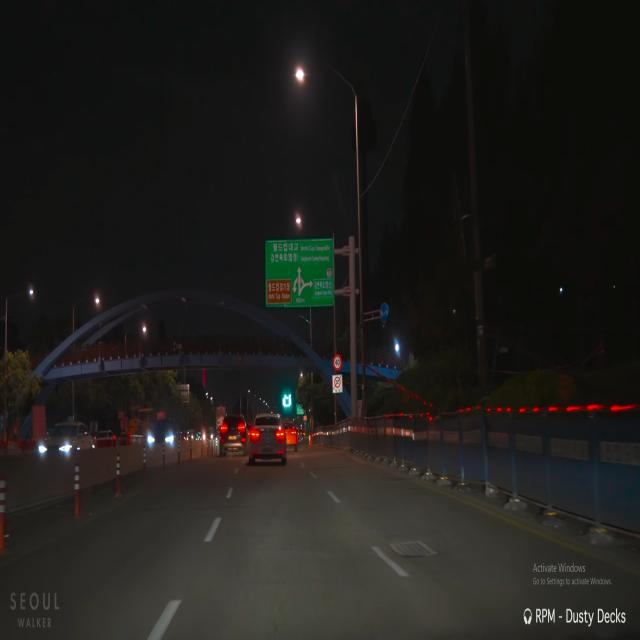headlights: (36, 434, 74, 459), (142, 430, 177, 450)
